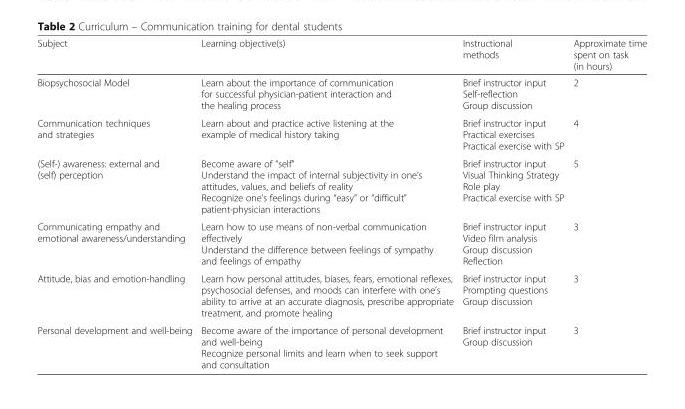table: (36, 37, 646, 369)
table column: (196, 37, 457, 369), (36, 37, 196, 369), (457, 37, 568, 369), (568, 37, 646, 369)
table column header: (36, 37, 646, 73)
table row: (36, 154, 646, 217), (36, 217, 646, 269), (36, 269, 646, 321), (36, 321, 646, 369), (36, 113, 646, 154), (36, 73, 646, 113), (36, 37, 646, 73)
